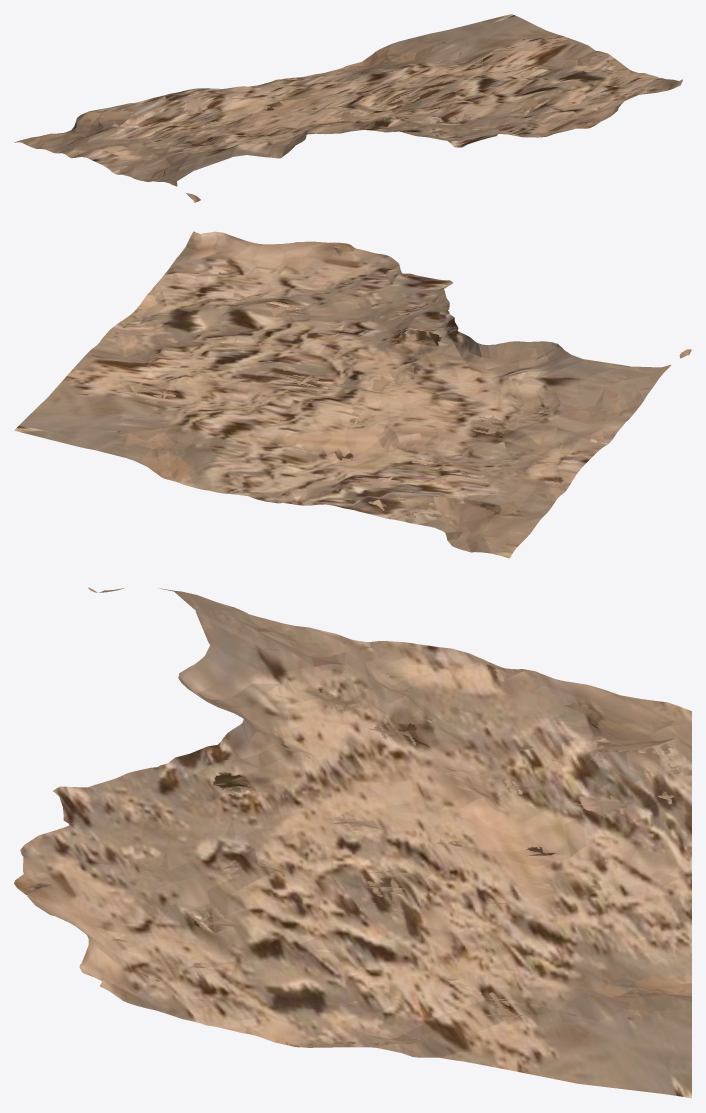
3 renders of one model, top to bottom at view 1: azimuth 30°, elevation 25°; view 2: azimuth 150°, elevation 25°; view 3: azimuth 270°, elevation 25°, orthographic. The views are drawn at different scales.
Bounding box in the file's own units: 1.04 × 0.1633 × 0.7504.
Materials: 2 (2 with a texture image).
